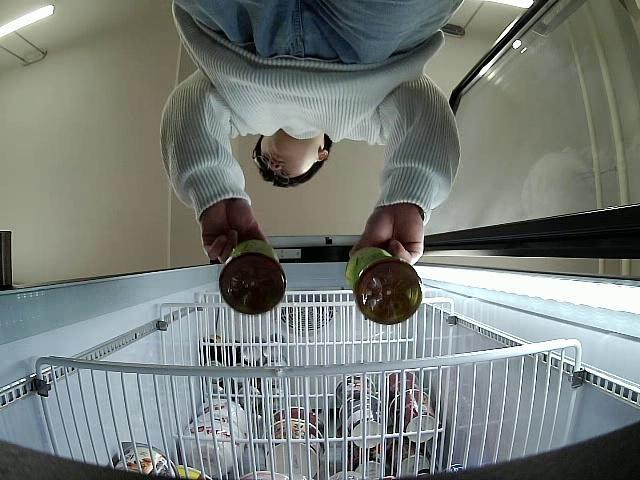19_17cha: (346, 245, 422, 325), (218, 240, 288, 314)
